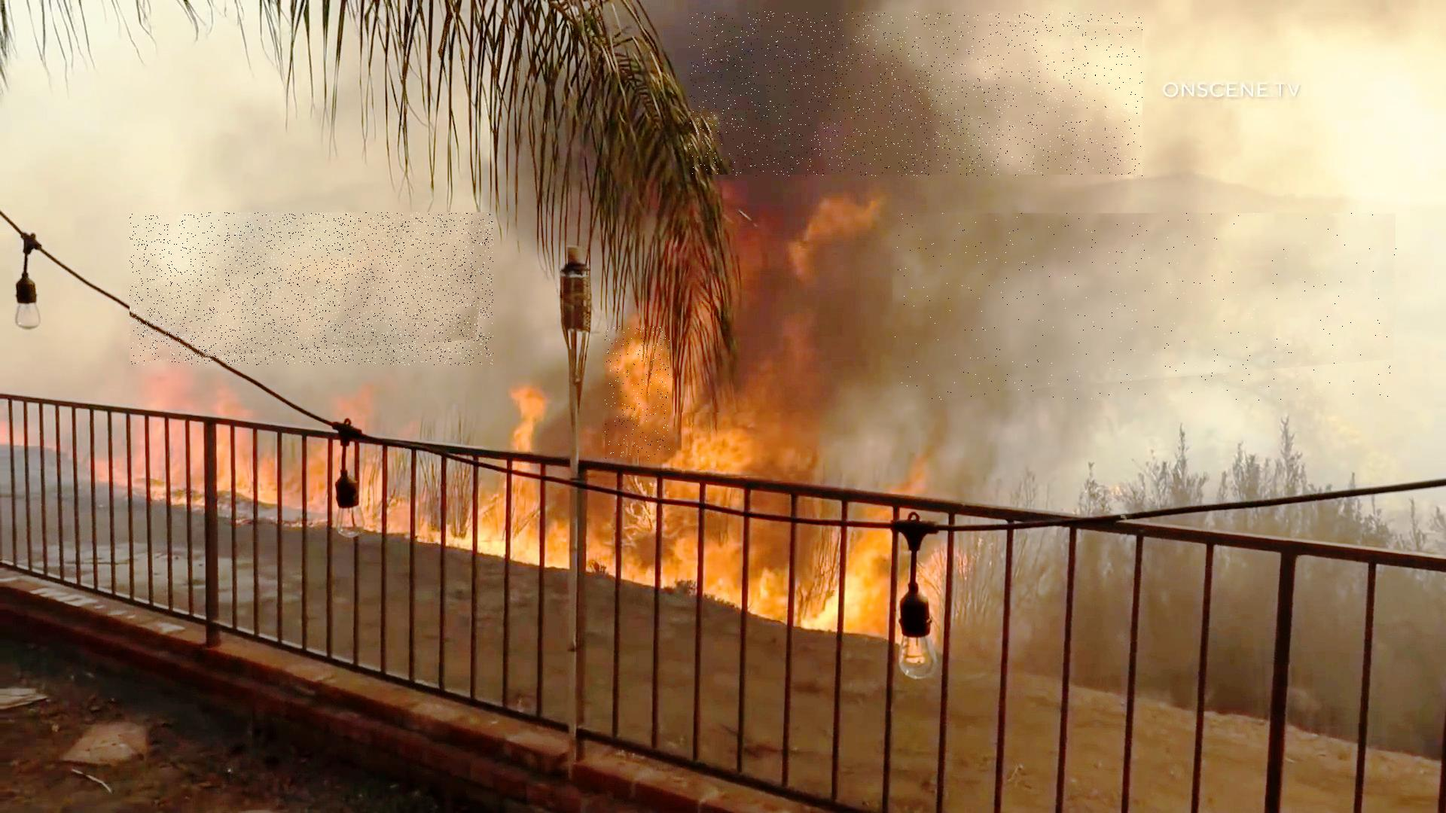fire: (605, 326, 670, 459), (682, 413, 805, 479)
smoke: (893, 213, 1398, 401), (689, 12, 1143, 177), (130, 213, 494, 366)
